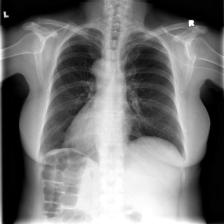normal: (35, 19, 188, 164)
